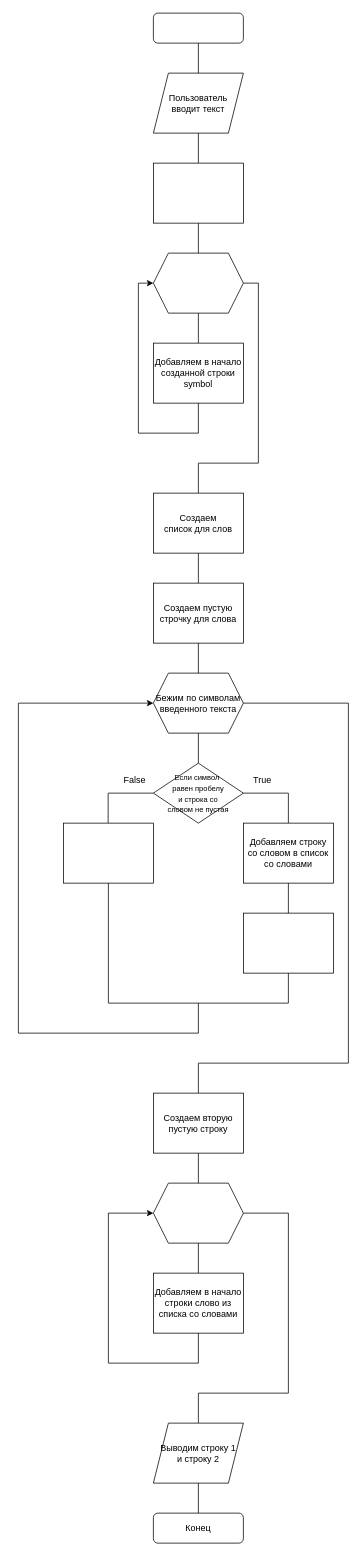
Image size: 362x1556. Some labels were removed from this diagram. The box of each missing label's shape, as (x1, y1, x2, y2) in pixels:
Бежим по символам строки, введенной пользователем (symbol): (153, 252, 243, 313)
Бежим по элементам списка со словами: (153, 1182, 243, 1243)
К пустой строке для слова добавляем символ: (63, 822, 153, 883)
Начало: (153, 12, 243, 43)
Обнуляем строку со словом: (243, 912, 333, 973)
Создаем пустую строку: (153, 162, 243, 223)
